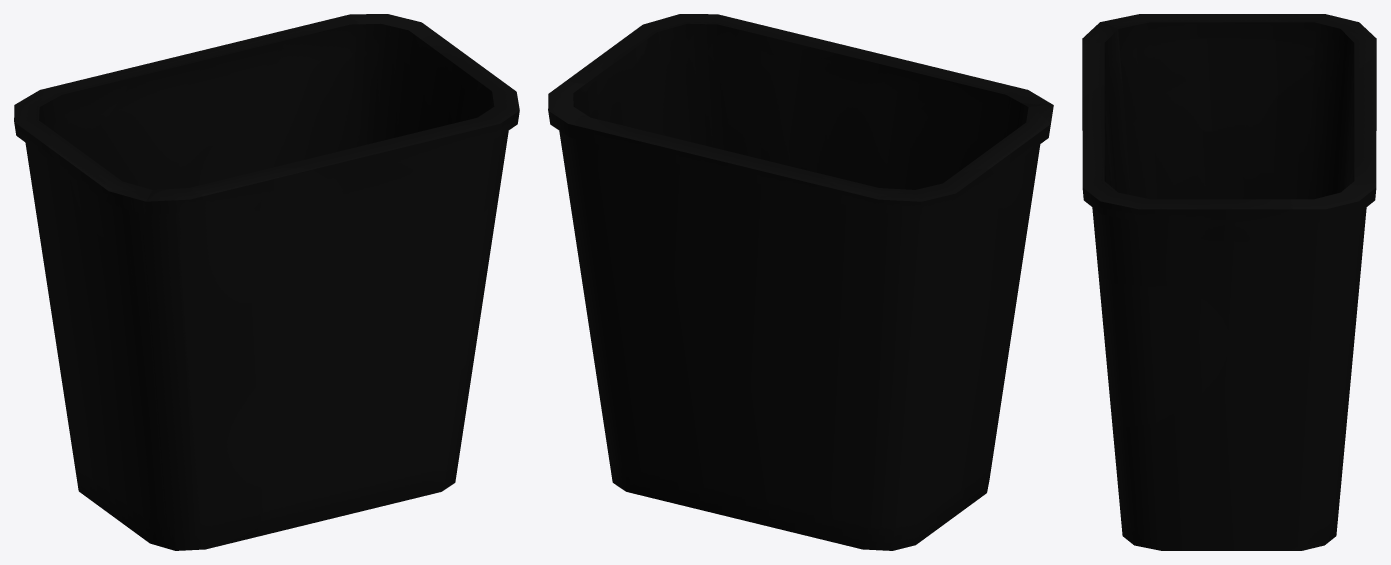
File: trashBin.fbx
The picture shows the model from 3 angles, left to right: view 1: azimuth 30°, elevation 25°; view 2: azimuth 150°, elevation 25°; view 3: azimuth 270°, elevation 25°; orthographic projection.
Visible parts, largest first — view 1: TrashBin_01; view 2: TrashBin_01; view 3: TrashBin_01.
Boxes of the visible parts, x1,y1,x2,y2 form: TrashBin_01: [14, 14, 519, 550]; TrashBin_01: [548, 14, 1053, 550]; TrashBin_01: [1082, 14, 1376, 550].
Size of the model in its own units: 0.439 by 0.3849 by 0.2791.
